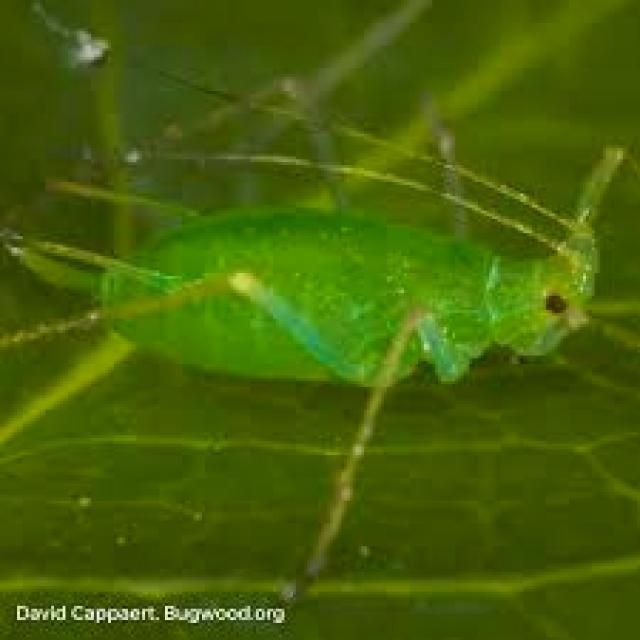aphid: (20, 74, 632, 488)
